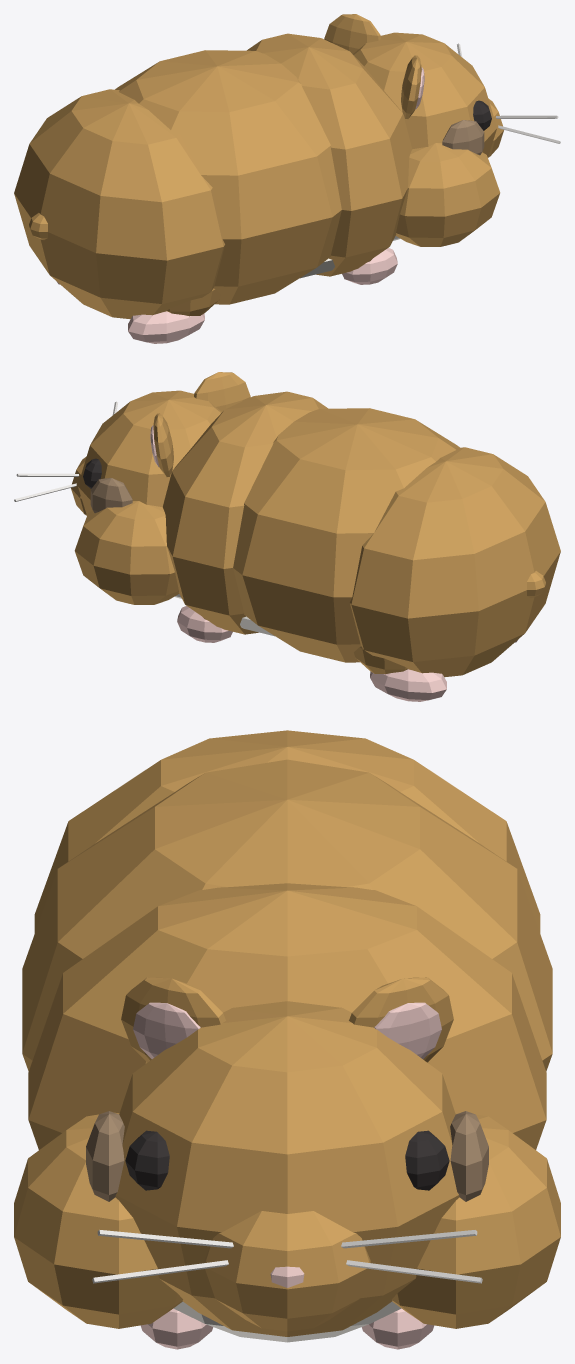
File: animal_hamster.glb
3 renders of one model, top to bottom at view 1: azimuth 30°, elevation 25°; view 2: azimuth 150°, elevation 25°; view 3: azimuth 270°, elevation 25°, orthographic. The views are drawn at different scales.
Visible parts, largest first — view 1: ArkBacak_-1; view 2: ArkBacak_-1; view 3: ArkBacak_-1.
Boxes of the visible parts, <box> form: ArkBacak_-1: <box>14,14,560,343</box>; ArkBacak_-1: <box>14,372,560,701</box>; ArkBacak_-1: <box>14,730,560,1349</box>.
Bounding box in the file's own units: 3.26 × 1.46 × 1.69.
